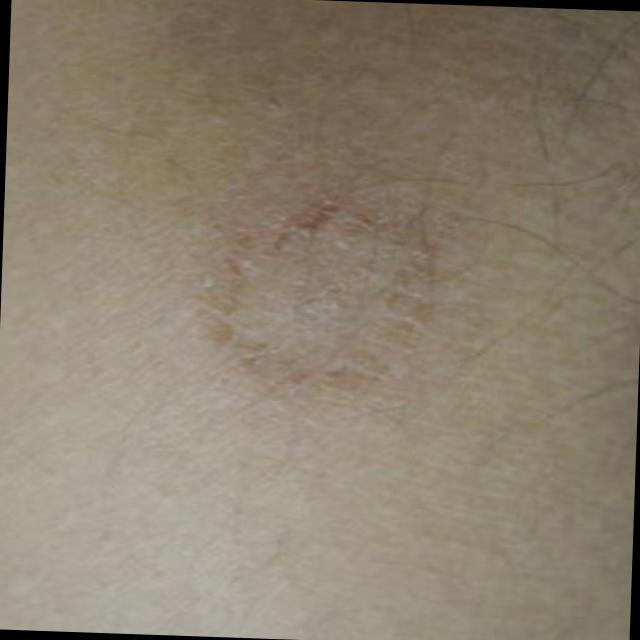Eczema: (224, 196, 441, 401)
